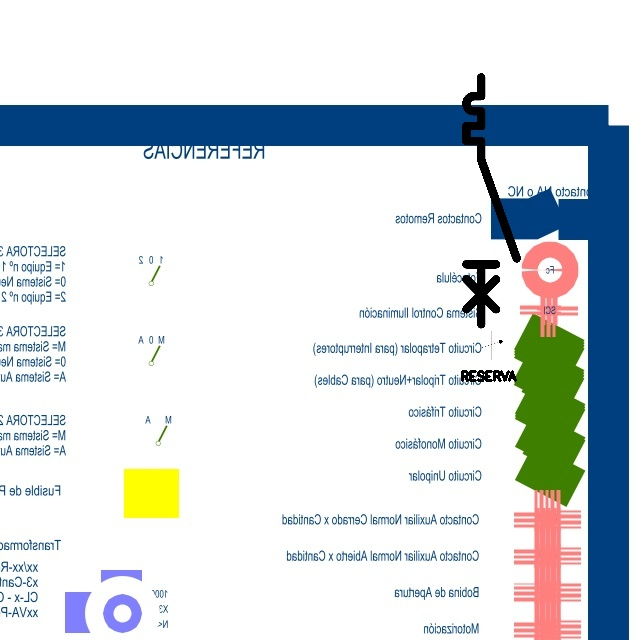interruptor_termomagnetico: (460, 71, 523, 330)
